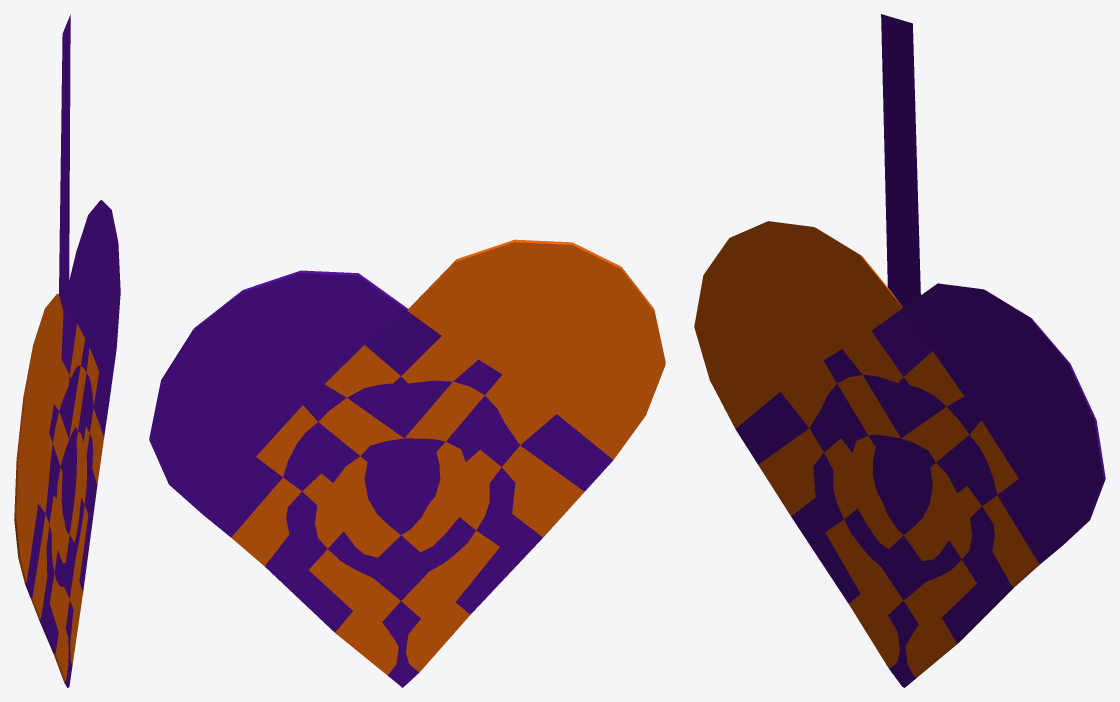
The model's file is heart19.glb.
The picture shows the model from 3 angles, left to right: view 1: azimuth 30°, elevation 25°; view 2: azimuth 150°, elevation 25°; view 3: azimuth 270°, elevation 25°; orthographic projection.
Parts seen in each view (by area): view 1: heart19; view 2: heart19; view 3: heart19.
Boxes of the visible parts, x1,y1,x2,y2 form: heart19: (14, 14, 120, 687); heart19: (149, 239, 665, 687); heart19: (694, 14, 1105, 687).
Size of the model in its own units: 0.0899 by 0.1854 by 0.1035.
